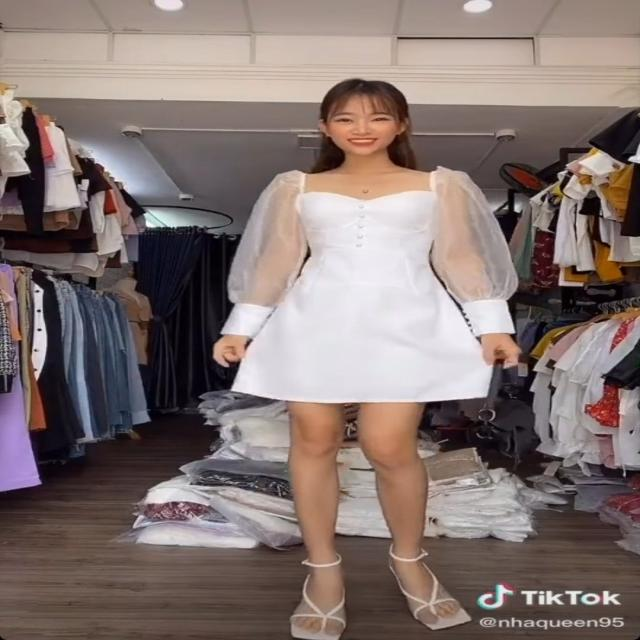clothes: (211, 166, 519, 401)
